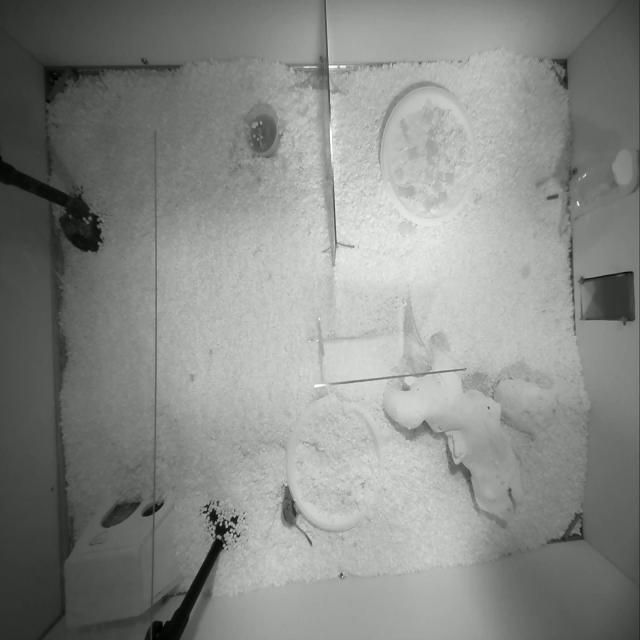pup_v_stripe: (281, 485, 312, 546)
